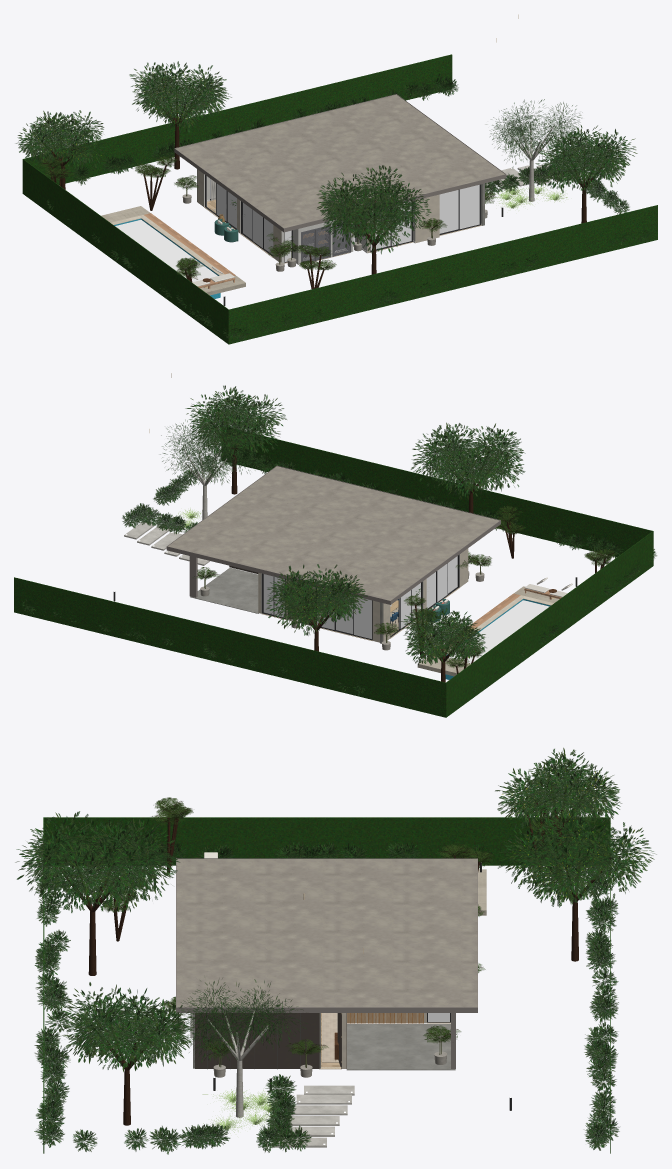
File: casa.glb
3 views of the same model, one above another, from view 1: azimuth 30°, elevation 25°; view 2: azimuth 150°, elevation 25°; view 3: azimuth 270°, elevation 25° (orthographic). The views are drawn at different scales.
Visible parts, largest first — view 1: WEB_Vegetacao, WEB_Cobertura, WEB_Esquadrias, WEB_Piscina, WEB_Arquitetura; view 2: WEB_Vegetacao, WEB_Cobertura, WEB_Esquadrias, WEB_Piscina, WEB_Arquitetura; view 3: WEB_Vegetacao, WEB_Cobertura, WEB_Arquitetura, WEB_Interiores, WEB_Esquadrias.
Boxes of the visible parts, <box> form: WEB_Vegetacao: <box>15,54,657,344</box>; WEB_Cobertura: <box>174,94,506,232</box>; WEB_Esquadrias: <box>204,175,481,263</box>; WEB_Piscina: <box>101,206,245,298</box>; WEB_Arquitetura: <box>197,169,481,264</box>; WEB_Vegetacao: <box>14,385,656,717</box>; WEB_Cobertura: <box>166,465,500,604</box>; WEB_Esquadrias: <box>261,555,459,640</box>; WEB_Piscina: <box>417,577,572,679</box>; WEB_Arquitetura: <box>189,548,468,642</box>; WEB_Vegetacao: <box>15,747,656,1154</box>; WEB_Cobertura: <box>176,858,477,1012</box>; WEB_Arquitetura: <box>190,1013,455,1070</box>; WEB_Interiores: <box>153,862,511,1110</box>; WEB_Esquadrias: <box>319,1013,450,1069</box>.
Size of what is drawn, in the model's own units: 31.62 by 12.25 by 28.03.
Materials: 91 (56 with a texture image).
